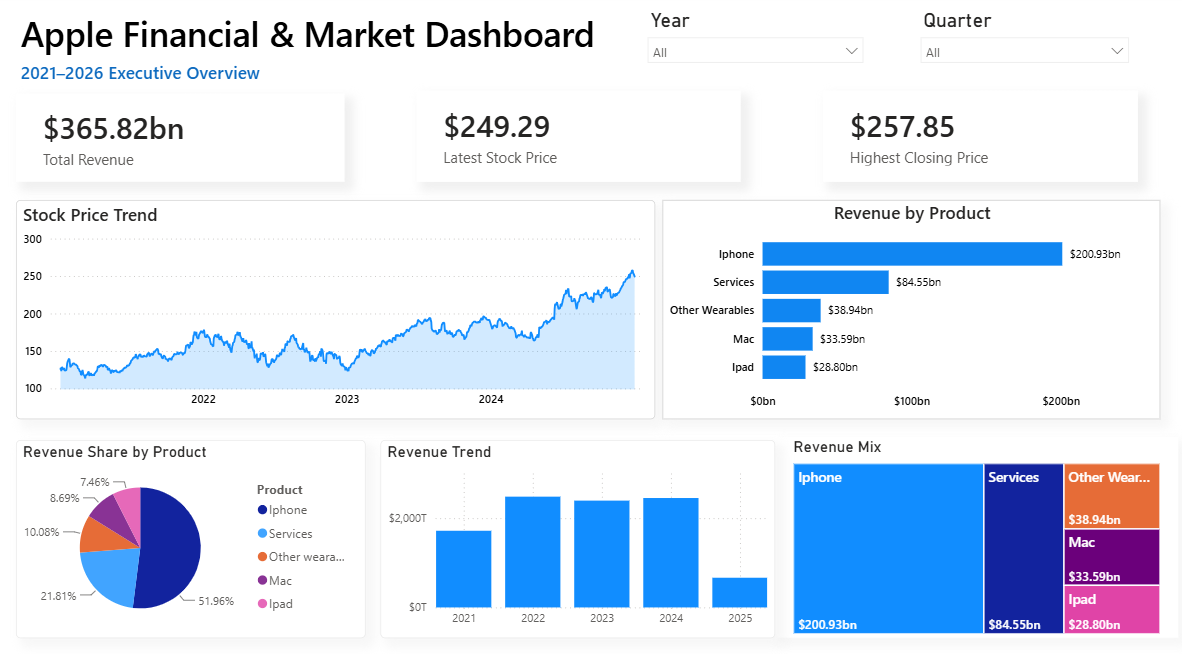

The page's visual inventory and layout, read from the dashboard file:
{"tool":"powerbi","page":{"name":"Page 1","canvas":[1280,720],"ordinal":0},"visuals":[{"type":"textbox","title":" Apple Financial & Market Dashboard","box":[19.4,17.8,884.1,87.4],"z":0},{"type":"slicer","fields":{"Values":["archive (2).fiscal_year"]},"box":[691.4,11.3,252.6,85.8],"z":1000},{"type":"slicer","fields":{"Values":["archive (2).fiscal_quarter"]},"box":[986.1,11.3,244.5,92.3],"z":2000},{"type":"cardVisual","fields":{"Data":["Min(archive (2).revenue_total)"]},"box":[19.4,108.5,354.6,95.5],"z":3000},{"type":"cardVisual","fields":{"Data":["archive (2).Latest Stock Price"]},"box":[451.8,105.2,349.8,98.8],"z":4000},{"type":"cardVisual","fields":{"Data":["Max(archive (2).close)"]},"box":[890.6,105.2,340,98.8],"z":5000},{"type":"lineChart","title":"Stock Price Trend","fields":{"Y":["Avg(archive (2).close)"],"Category":["archive (2).date"]},"box":[19.4,223.5,689.8,236.4],"z":6000},{"type":"barChart","fields":{"Category":["archive (2).Revenue Product"],"Y":["Avg(archive (2).Revenue value)"]},"box":[717.3,223.5,537.6,236.4],"z":7000},{"type":"treemap","title":"Revenue Mix","fields":{"Values":["Avg(archive (2).Revenue value)"],"Group":["archive (2).Revenue Product"]},"box":[838.8,479.3,435.6,217],"z":8000},{"type":"pieChart","fields":{"Y":["Avg(archive (2).Shares)"],"Category":["archive (2).Product"]},"box":[19.4,482.5,377.3,213.7],"z":9000},{"type":"columnChart","title":"Revenue  Trend","fields":{"Y":["Sum(archive (2).revenue_total)"],"Category":["archive (2).fiscal_year"]},"box":[412.9,482.5,425.9,213.7],"z":11000}]}

Visuals, with their boxes in screenshot pixels (x1, y1, x2, y2), scaled from the page's 1280x720 canvas onto the 1182x654 screenshot:
" Apple Financial & Market Dashboard" textbox: [x1=18, y1=16, x2=834, y2=96]
slicer - archive (2).fiscal_year: [x1=638, y1=10, x2=872, y2=88]
slicer - archive (2).fiscal_quarter: [x1=911, y1=10, x2=1136, y2=94]
cardVisual - Min(archive (2).revenue_total): [x1=18, y1=99, x2=345, y2=185]
cardVisual - archive (2).Latest Stock Price: [x1=417, y1=96, x2=740, y2=185]
cardVisual - Max(archive (2).close): [x1=822, y1=96, x2=1136, y2=185]
"Stock Price Trend" lineChart: [x1=18, y1=203, x2=655, y2=418]
barChart - archive (2).Revenue Product x Avg(archive (2).Revenue value): [x1=662, y1=203, x2=1159, y2=418]
"Revenue Mix" treemap: [x1=775, y1=435, x2=1177, y2=632]
pieChart - Avg(archive (2).Shares) x archive (2).Product: [x1=18, y1=438, x2=366, y2=632]
"Revenue  Trend" columnChart: [x1=381, y1=438, x2=775, y2=632]
